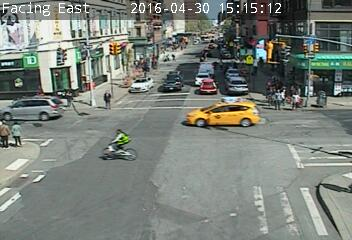neg: (109, 123, 137, 160), (63, 164, 82, 190), (72, 41, 90, 65), (235, 166, 252, 188), (138, 183, 154, 205), (317, 83, 333, 105), (281, 149, 297, 170), (62, 116, 78, 137), (34, 91, 49, 112), (299, 44, 314, 64), (153, 34, 168, 54), (33, 49, 47, 69), (150, 88, 164, 107), (202, 149, 216, 168), (175, 133, 189, 151), (89, 185, 103, 203), (226, 95, 240, 112), (203, 68, 216, 85), (240, 51, 253, 67), (191, 38, 203, 54)
pos: (7, 120, 25, 145), (100, 88, 115, 108), (288, 92, 303, 112)
